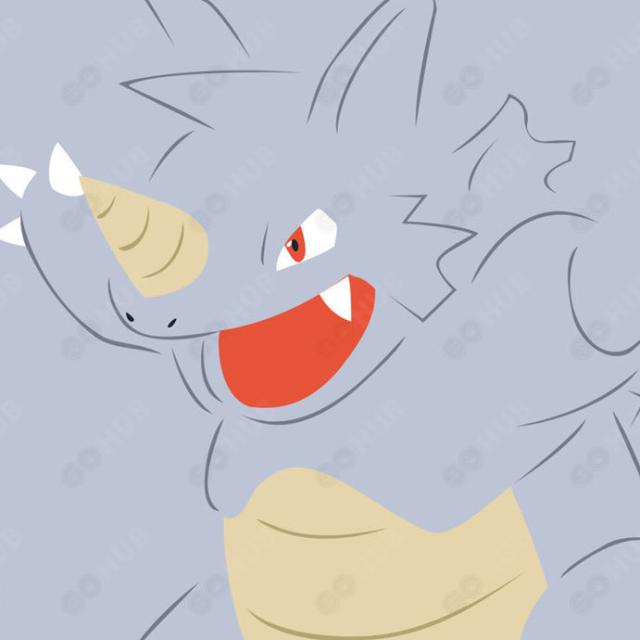Rhydon: (0, 0, 596, 570)
